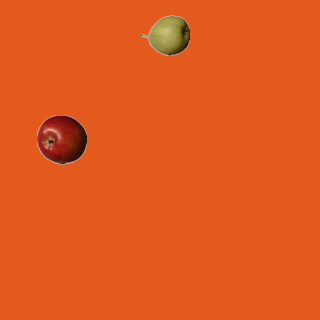Apple Braeburn: (36, 114, 86, 164)
Pear: (139, 10, 189, 60)
